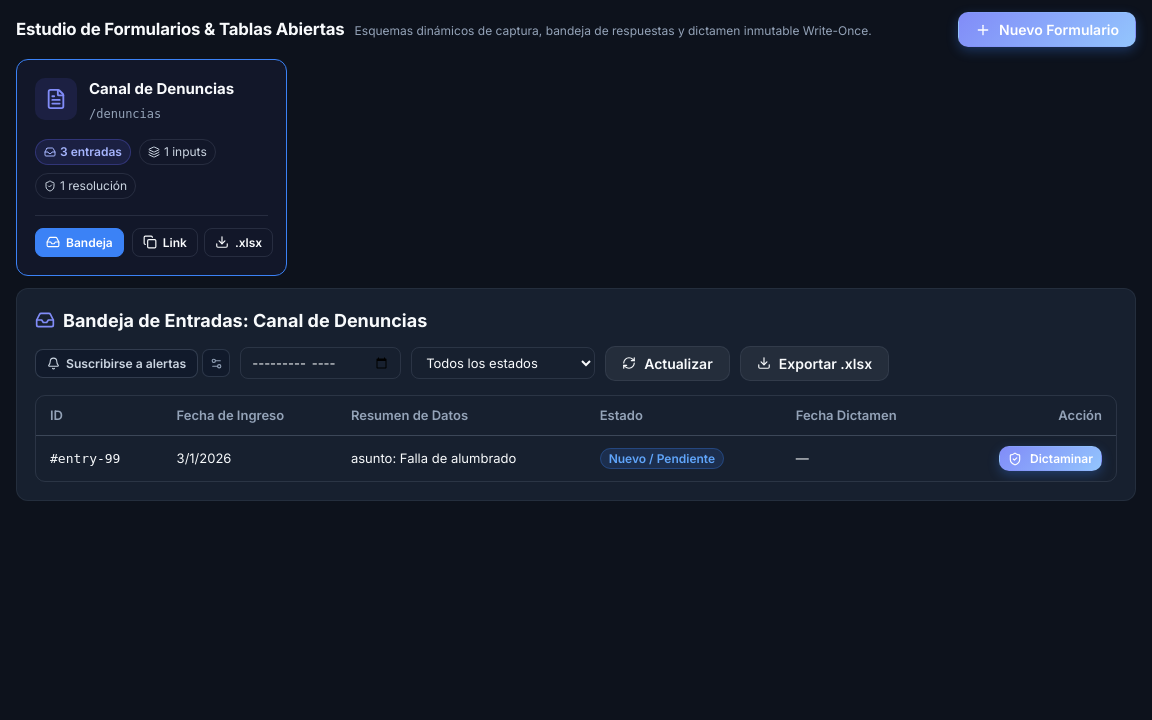
it: FormsStudioView › debe abrir el modal de dictaminar al hacer click en el botón de la fila
This screenshot has width=1152, height=720.
Check: the text "Dictaminar" is shown, box [1030,451,1093,466]
Click the button "Dictaminar".
click(1051, 458)  # box [999,446,1102,471]
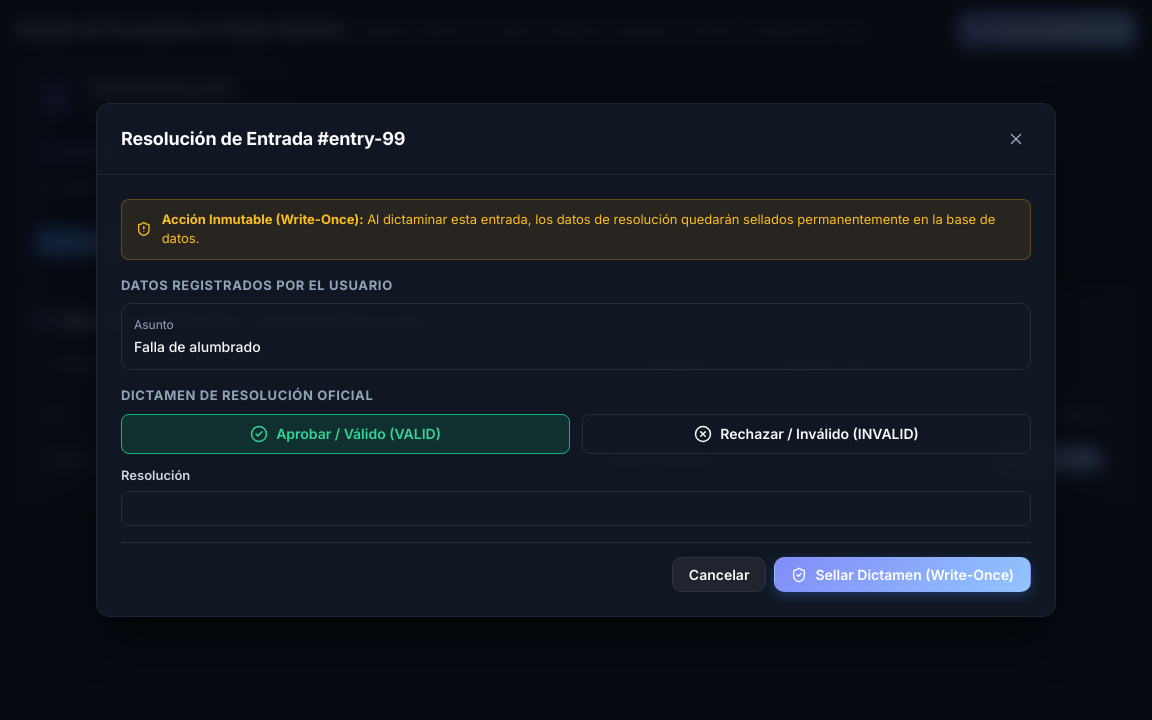
Check: the heading "Resolución de Entrada #entry-99" is shown, box [121,125,405,152]
